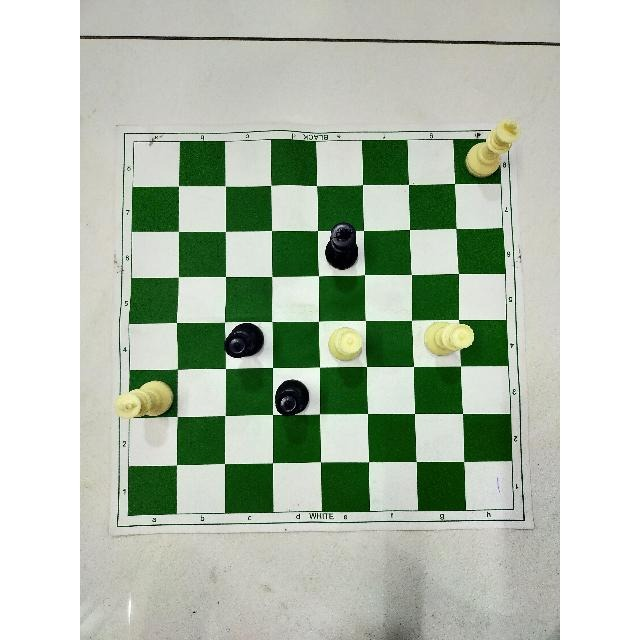black-king: (323, 219, 361, 271)
black-queen: (222, 320, 266, 360), (271, 377, 312, 419)
white-king: (459, 116, 526, 179), (115, 377, 175, 424)
white-queen: (417, 316, 483, 359), (325, 324, 364, 363)
